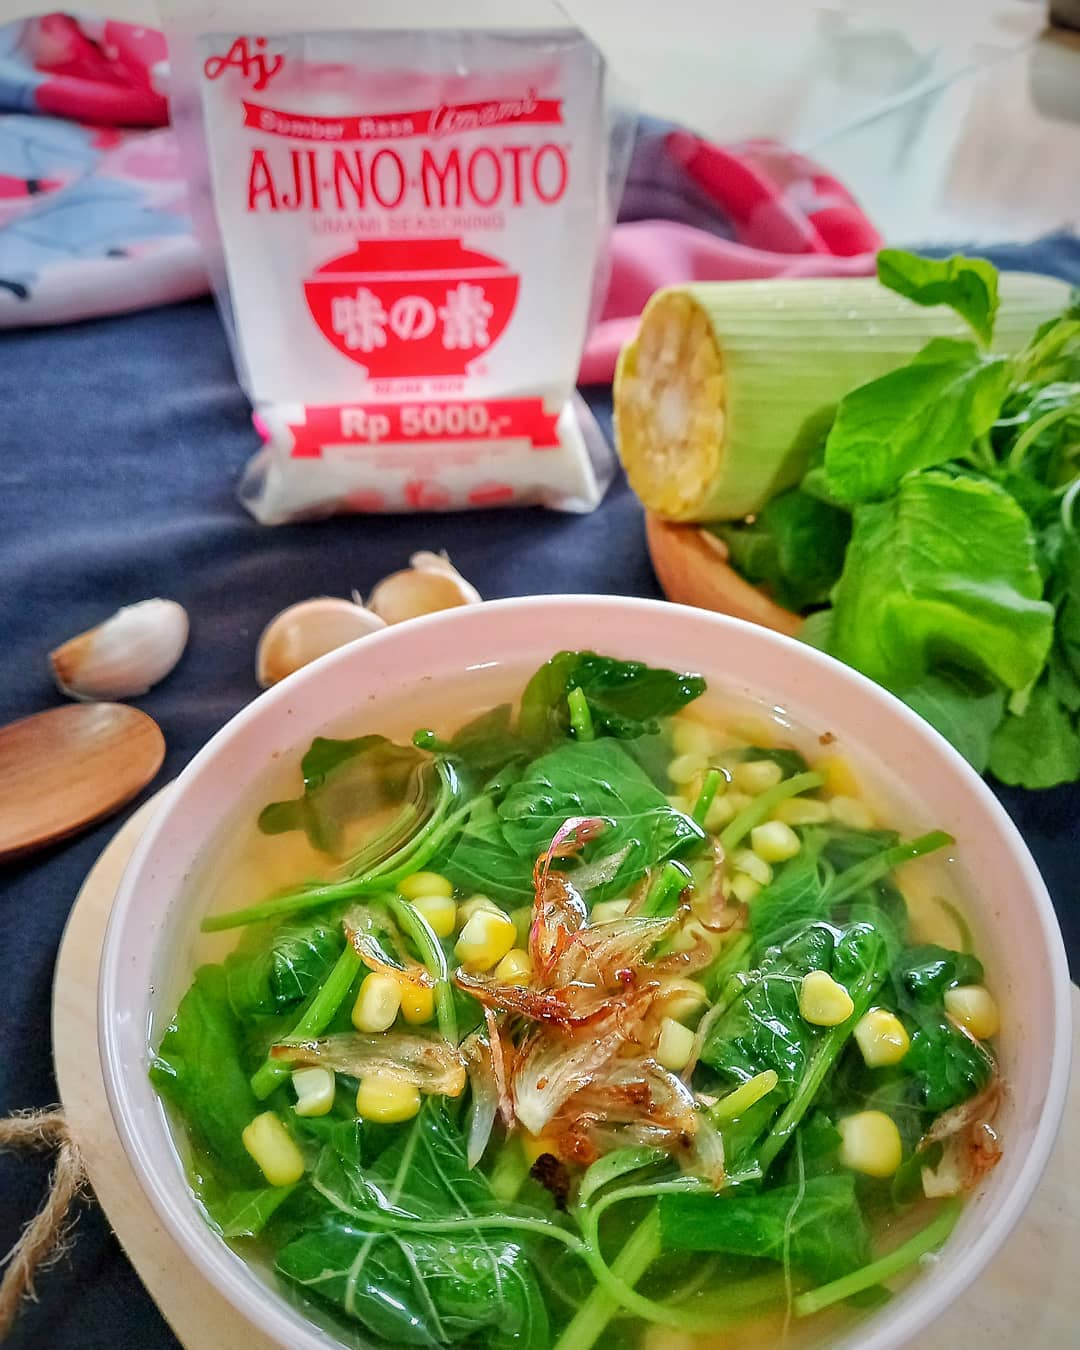Sayur Bayam: (129, 622, 1035, 1311)
